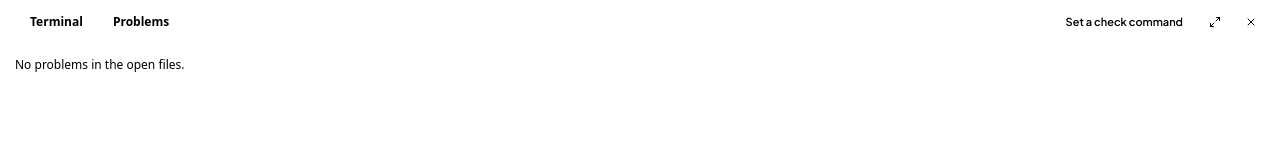
D301 D334 the Terminal in the theme › reads Terminal · Problems in the panel’s pill, and Terminal shows the terminal
Click the tab "Terminal": (56, 22) [16,9,97,35]
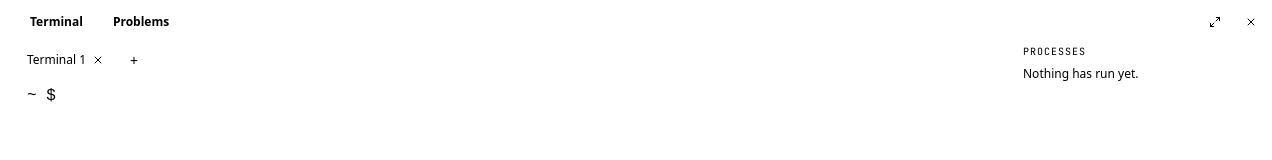
Result: the text "~ $" is shown at [27,87,65,105]
